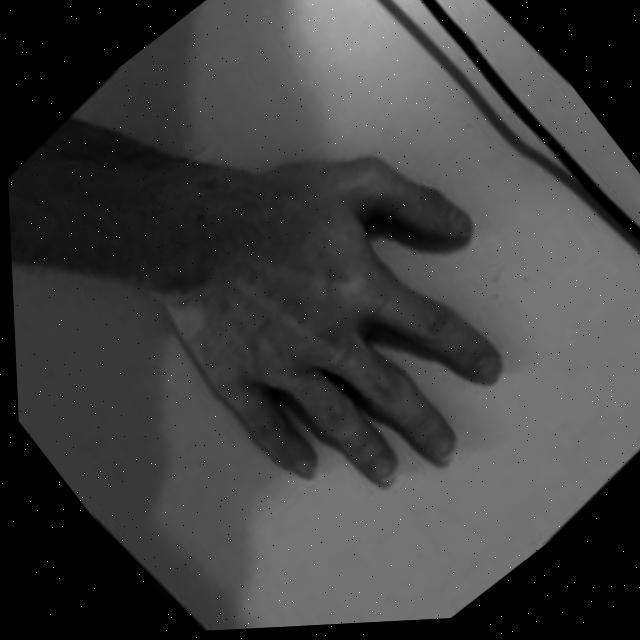no-gloves: (122, 94, 588, 566)
